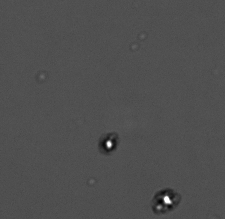Living Cell: (154, 189, 178, 211), (99, 133, 118, 153)
